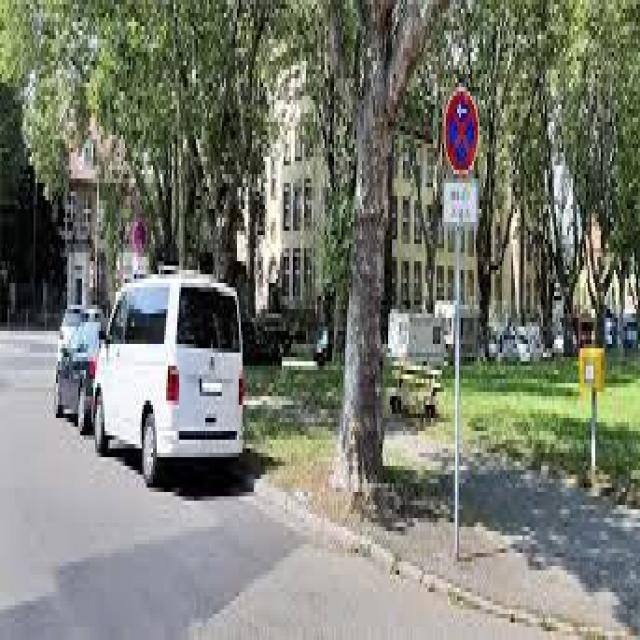no stopping: (440, 87, 482, 178)
